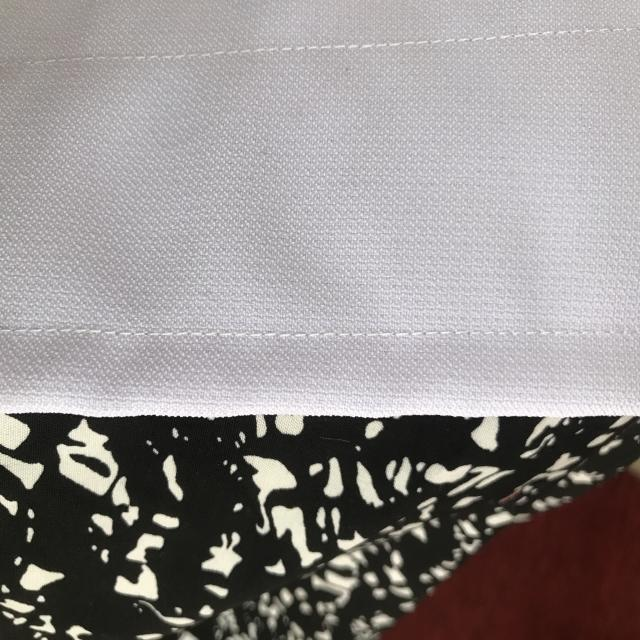good: (46, 312, 556, 350), (153, 31, 502, 59)
